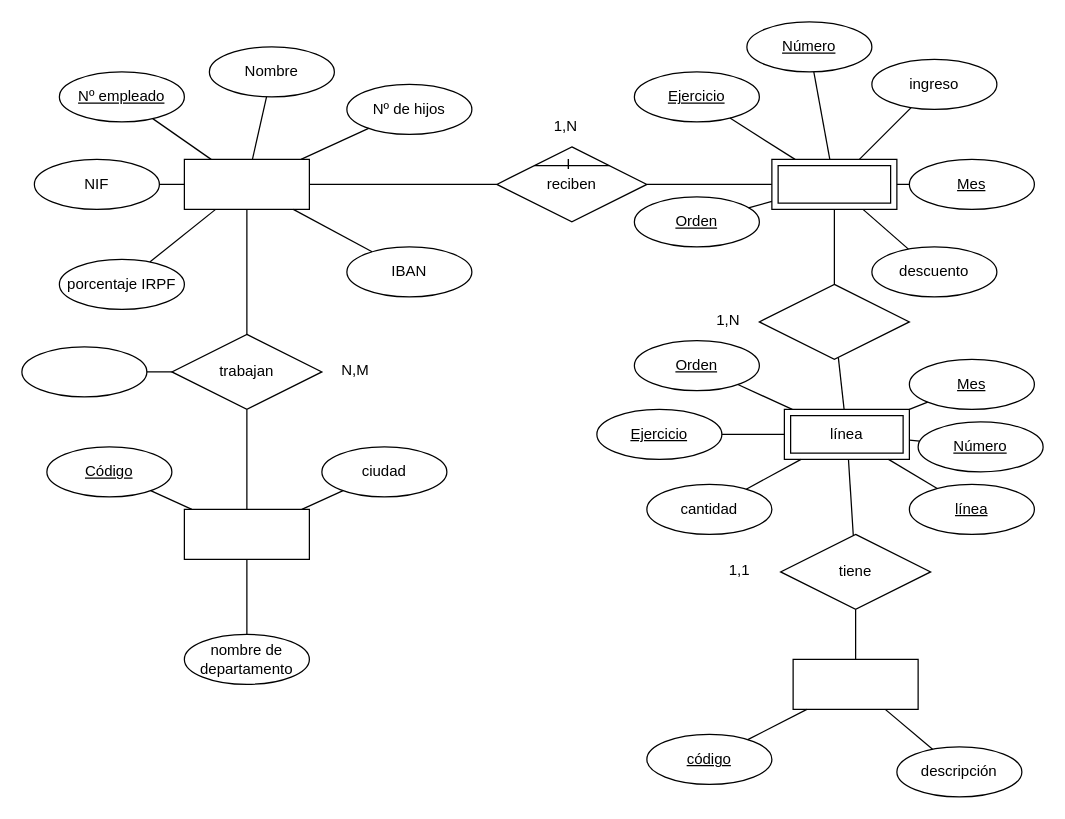
Image size: 1065x819. Some labels were removed from this diagram. Here are the shapes that lost their labels. From the top down, the centre of each, then its label:
pixel 246 183: empleados
pixel 834 183: nómina
pixel 833 321: formada
pixel 84 371: función
pixel 246 533: departamentos
pixel 855 683: concepto
